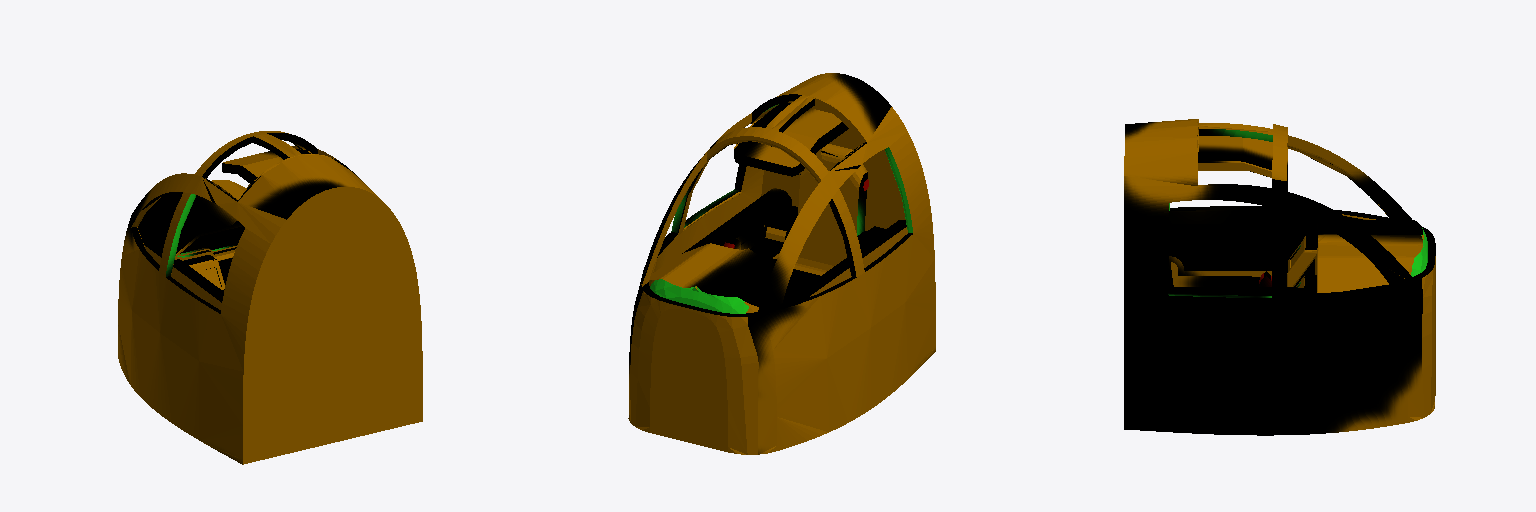
3 views of the same model, side by side, from view 1: azimuth 30°, elevation 25°; view 2: azimuth 150°, elevation 25°; view 3: azimuth 270°, elevation 25° (orthographic).
Visible parts, largest first — view 1: Object_3_Mesh_0; view 2: Object_3_Mesh_0; view 3: Object_3_Mesh_0.
Boxes of the visible parts, <box> form: Object_3_Mesh_0: <box>118,131,422,464</box>; Object_3_Mesh_0: <box>628,73,935,454</box>; Object_3_Mesh_0: <box>1124,119,1435,435</box>.
Bounding box in the file's own units: 15.8 × 19.39 × 21.07.
1 materials, 1 textured.